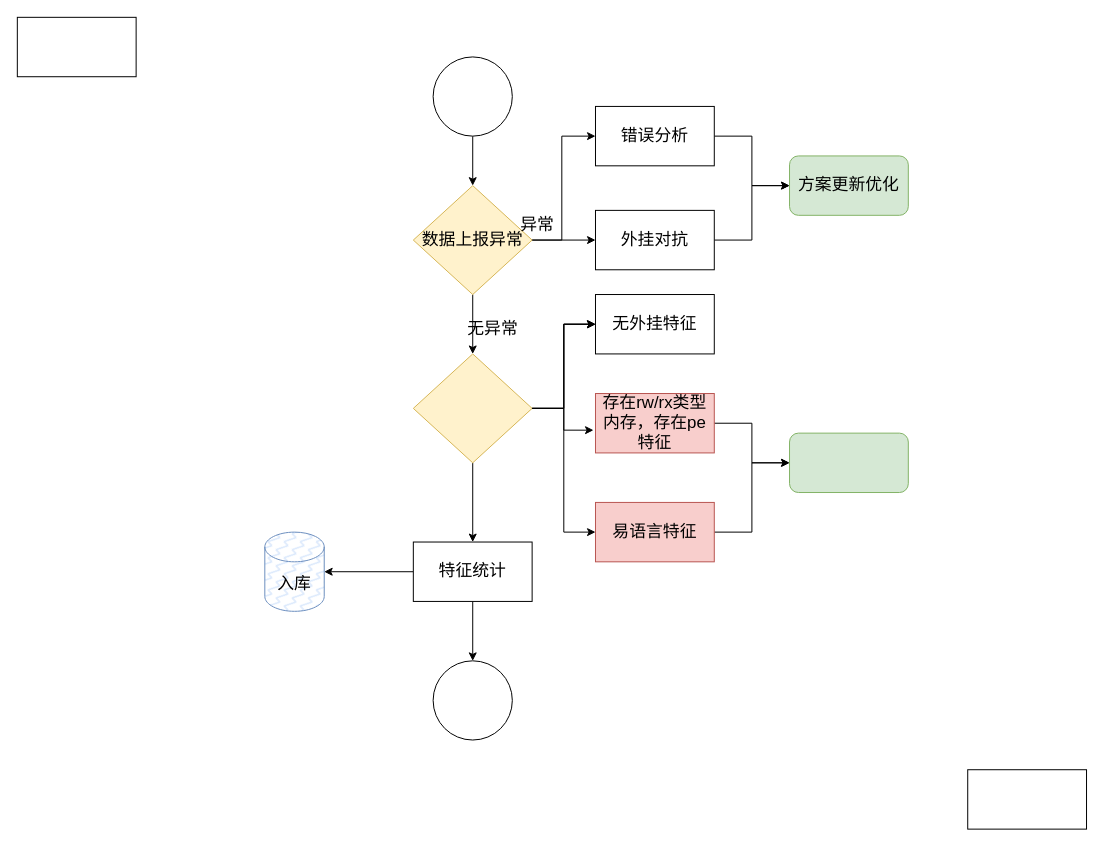
The diagram is 1104 pixels wide and 846 high, and some of its shapes have lost their labels. The centre of each missing label's shape, as x and y in pixels:
外挂提单或直接处罚: [848,462]
开始: [472,96]
特征分类: [472,408]
结束: [472,700]
